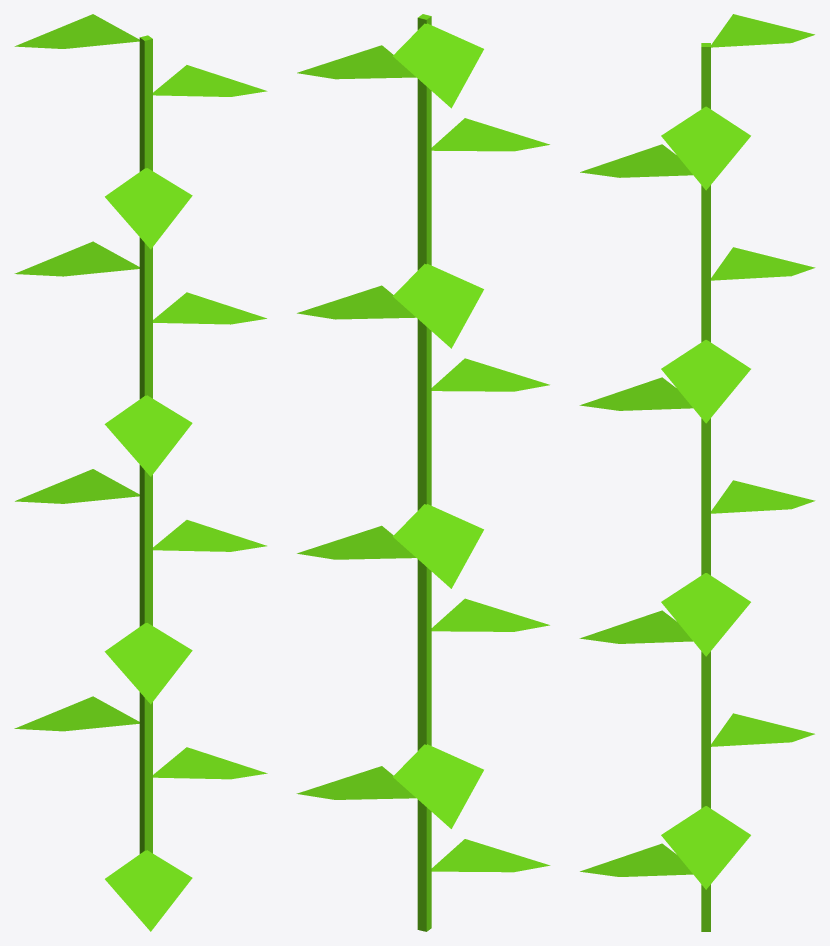
The model's file is kelp.glb.
The picture shows the model from 3 angles, left to right: view 1: azimuth 30°, elevation 25°; view 2: azimuth 150°, elevation 25°; view 3: azimuth 270°, elevation 25°; orthographic projection. The views are drawn at different scales.
Visible parts, largest first — view 1: Cube; view 2: Cube; view 3: Cube.
Part boxes in pixels (left/top/right/bottom): Cube: left=14, top=14, right=267, bottom=931; Cube: left=296, top=14, right=550, bottom=931; Cube: left=579, top=14, right=815, bottom=931.
Size of the model in its own units: 0.9594 by 3.95 by 0.9564.
